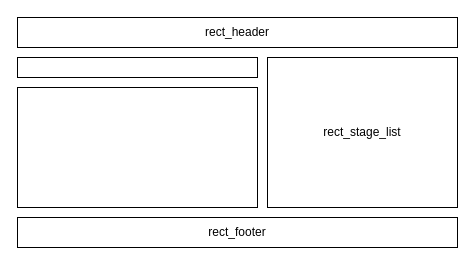
This 475x265 diagram has some shape labels left out. The shapes that lost their labels are listed below. From the top down, each one's centre as x and y in pixels, then its label:
At (137,67): "rect_stage_title".
At (137,147): "rect_thumbnail".
